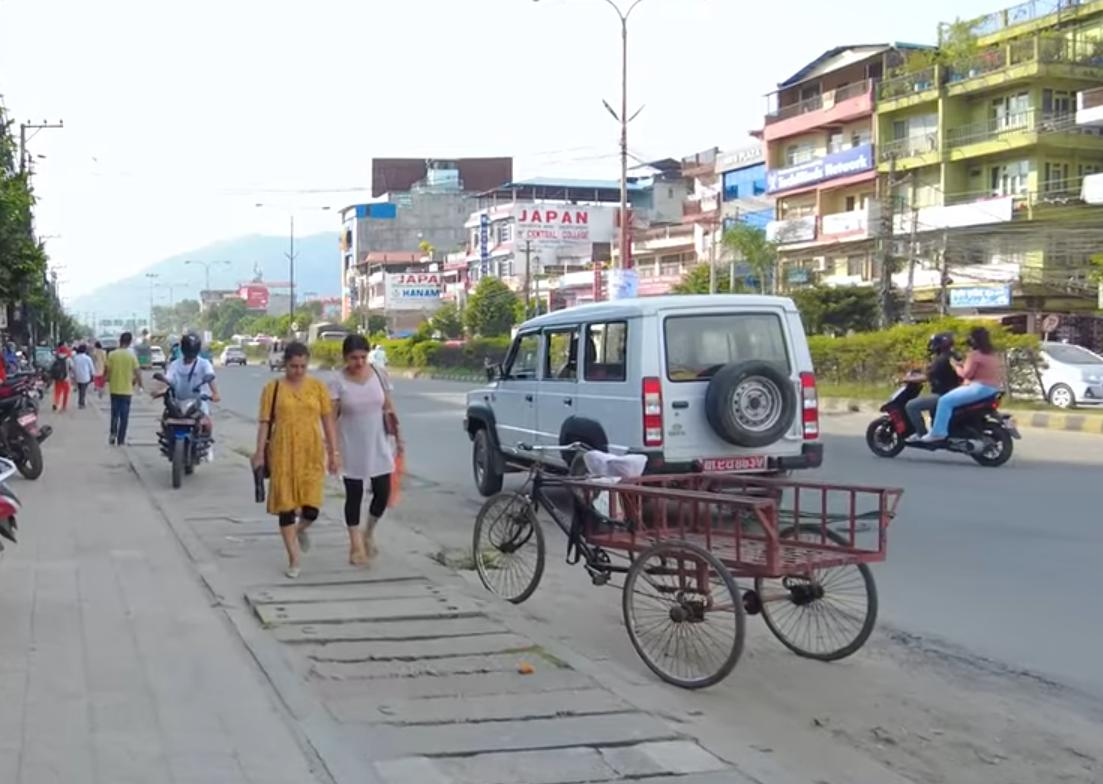ambulance: (457, 272, 827, 522)
bike: (150, 368, 216, 493), (0, 383, 55, 486)
scooter: (861, 366, 1023, 473)
